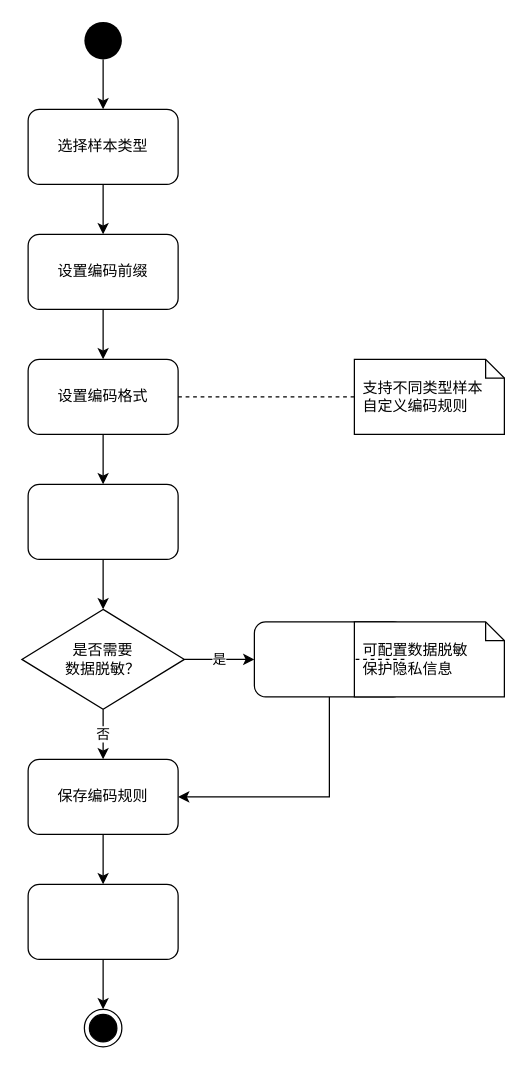
This 526x1069 diagram has some shape labels left out. Here are the shapes that lost their labels. From the top down, the centre of each, then its label:
the point at 102,521: 配置自动编号规则
the point at 328,659: 配置脱敏规则
the point at 102,921: 测试编码生成
